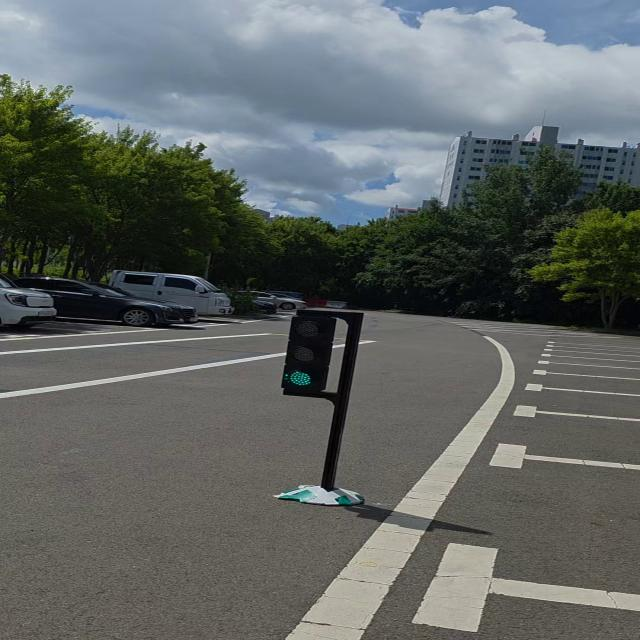green: (279, 312, 345, 396)
